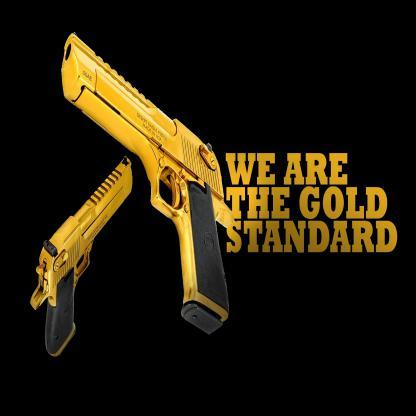Pistol: (24, 26, 268, 348), (16, 148, 164, 366)
